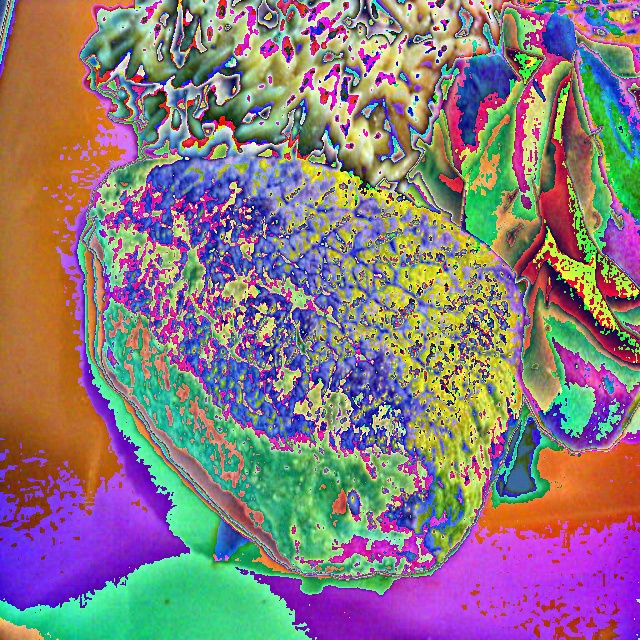background: (79, 0, 639, 577)
